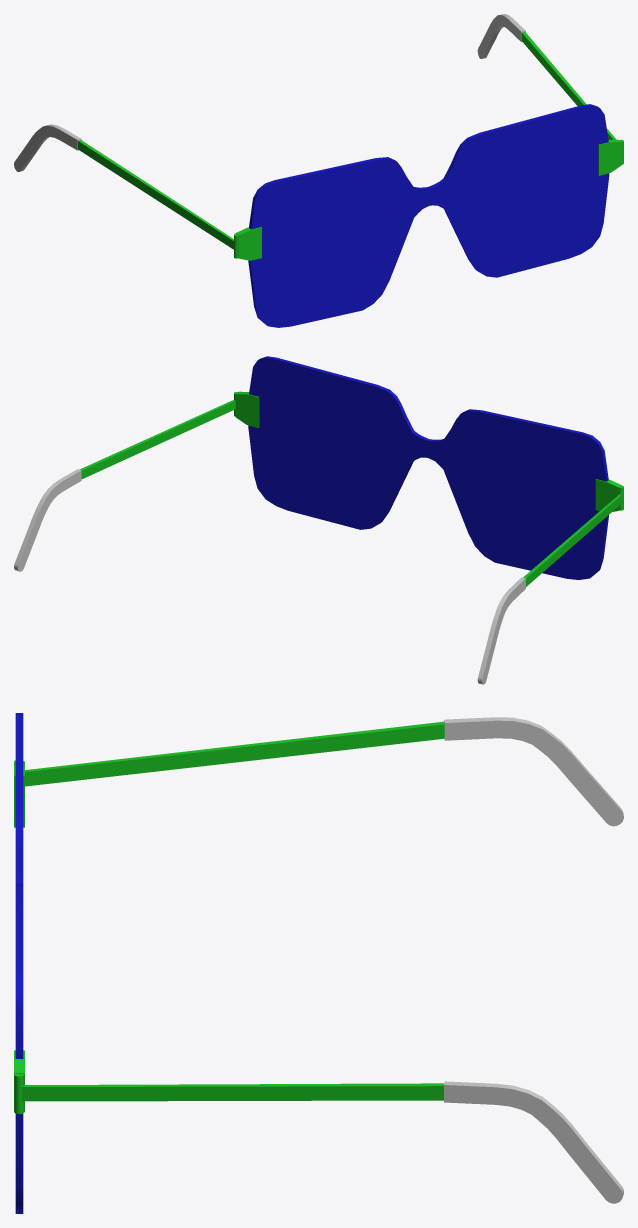
Rendered from glasses18.001.obj.
3 views of the same model, one above another, from view 1: azimuth 30°, elevation 25°; view 2: azimuth 150°, elevation 25°; view 3: azimuth 270°, elevation 25° (orthographic). The views are drawn at different scales.
Visible parts, largest first — view 1: glasses18.001_glasses18.001_Glass, glasses18.001_glasses18.001_Base, glasses18.001_glasses18.001_black; view 2: glasses18.001_glasses18.001_Glass, glasses18.001_glasses18.001_Base, glasses18.001_glasses18.001_black; view 3: glasses18.001_glasses18.001_Base, glasses18.001_glasses18.001_black, glasses18.001_glasses18.001_Glass.
Part boxes in pixels (box(x1,y1,x2,y2)): glasses18.001_glasses18.001_Glass: box(248, 104, 609, 327); glasses18.001_glasses18.001_Base: box(78, 32, 623, 260); glasses18.001_glasses18.001_black: box(14, 14, 525, 171); glasses18.001_glasses18.001_Glass: box(248, 356, 608, 579); glasses18.001_glasses18.001_Base: box(80, 391, 623, 586); glasses18.001_glasses18.001_black: box(14, 469, 525, 684); glasses18.001_glasses18.001_Base: box(14, 721, 444, 1114); glasses18.001_glasses18.001_black: box(444, 717, 623, 1203); glasses18.001_glasses18.001_Glass: box(15, 713, 23, 1213).
Bounding box in the file's own units: 2.15 × 0.657 × 1.45.
